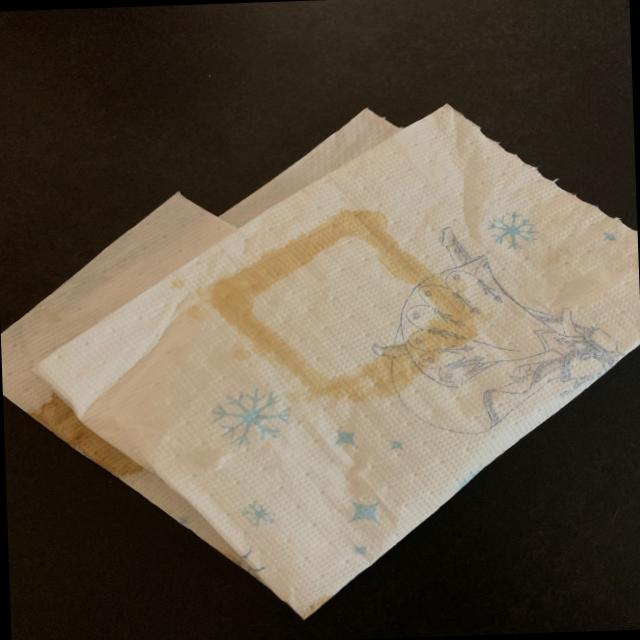organic waste: (0, 92, 640, 638)
